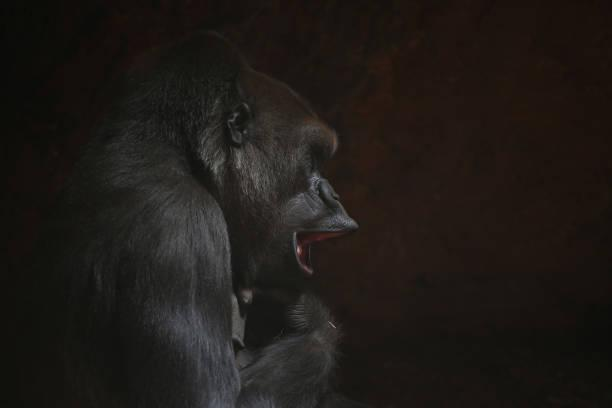gorille_Autres: (40, 15, 371, 408)
